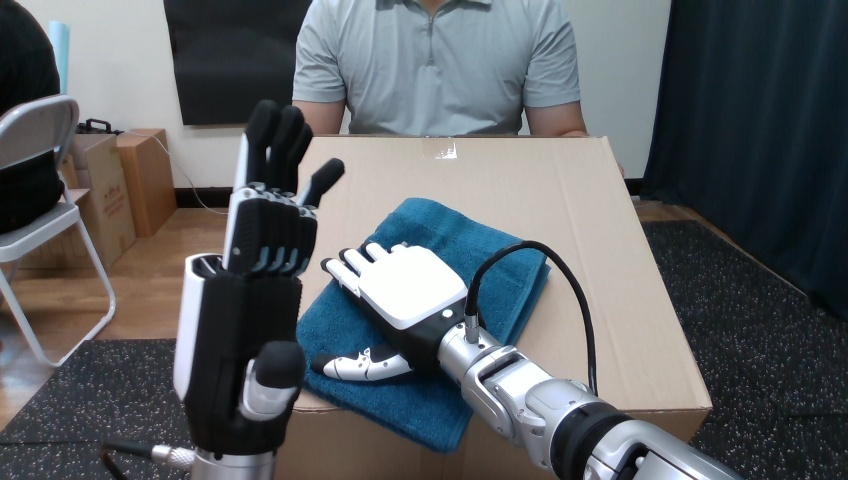left robot hand: (312, 240, 739, 479), (312, 241, 739, 479), (103, 100, 343, 479), (476, 246, 589, 386), (477, 248, 589, 385)
